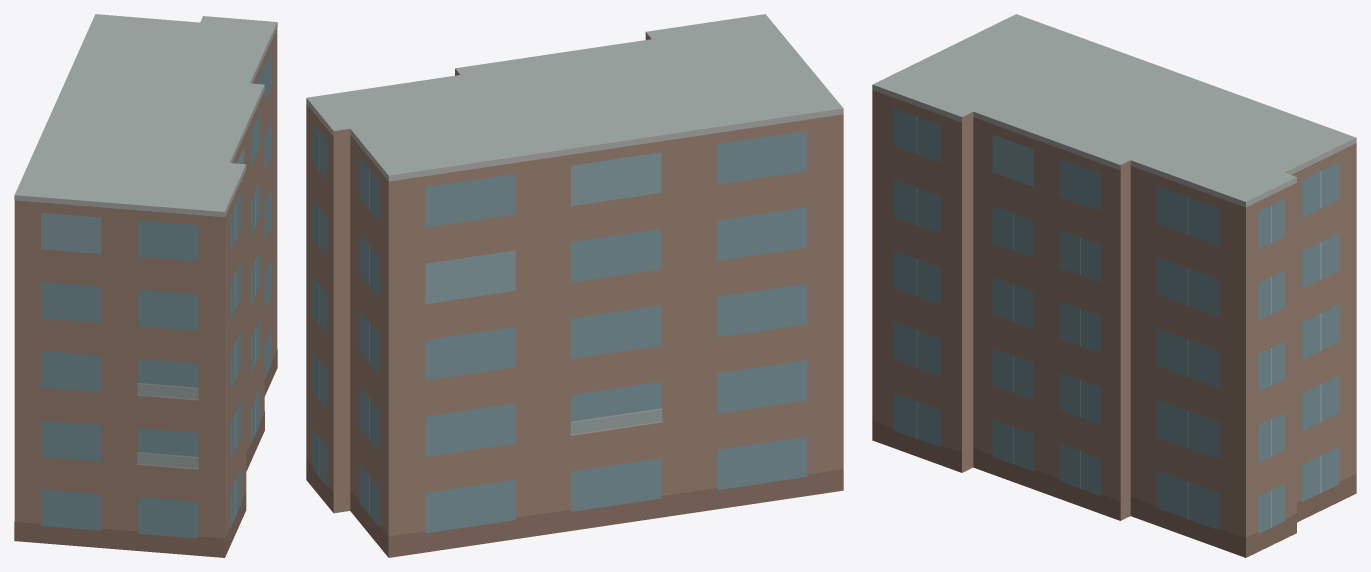
Rendered from survey-upis-32972526.glb.
The picture shows the model from 3 angles, left to right: view 1: azimuth 30°, elevation 25°; view 2: azimuth 150°, elevation 25°; view 3: azimuth 270°, elevation 25°; orthographic projection. The views are drawn at different scales.
Parts seen in each view (by area): view 1: survey-upis-32972526.tmp; view 2: survey-upis-32972526.tmp; view 3: survey-upis-32972526.tmp.
Part boxes in pixels (x1,y1,x2,y2): survey-upis-32972526.tmp: (14, 14, 277, 557); survey-upis-32972526.tmp: (306, 14, 843, 557); survey-upis-32972526.tmp: (872, 14, 1356, 557).
Bounding box in the file's own units: 18.03 × 15.9 × 19.61.
